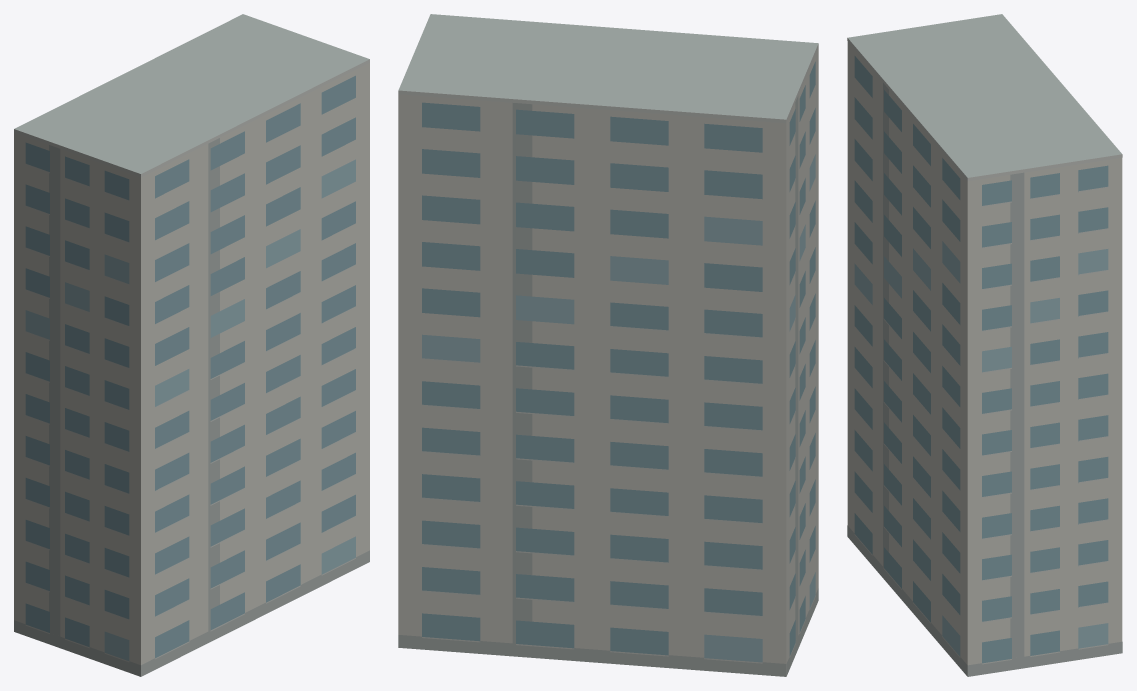
File: residential-acf82f85-33bd-4bc3-bd56-c4911a6114c7.glb
The picture shows the model from 3 angles, left to right: view 1: azimuth 30°, elevation 25°; view 2: azimuth 150°, elevation 25°; view 3: azimuth 270°, elevation 25°; orthographic projection. The views are drawn at different scales.
Parts seen in each view (by area): view 1: residential-acf82f85-33bd-4bc3-bd56-c4911a6114c7.tmp; view 2: residential-acf82f85-33bd-4bc3-bd56-c4911a6114c7.tmp; view 3: residential-acf82f85-33bd-4bc3-bd56-c4911a6114c7.tmp.
Boxes of the visible parts, x1,y1,x2,y2 form: residential-acf82f85-33bd-4bc3-bd56-c4911a6114c7.tmp: (14, 14, 369, 676); residential-acf82f85-33bd-4bc3-bd56-c4911a6114c7.tmp: (398, 14, 818, 676); residential-acf82f85-33bd-4bc3-bd56-c4911a6114c7.tmp: (847, 14, 1122, 676).
Size of the model in its own units: 25.79 by 36.6 by 18.29.
